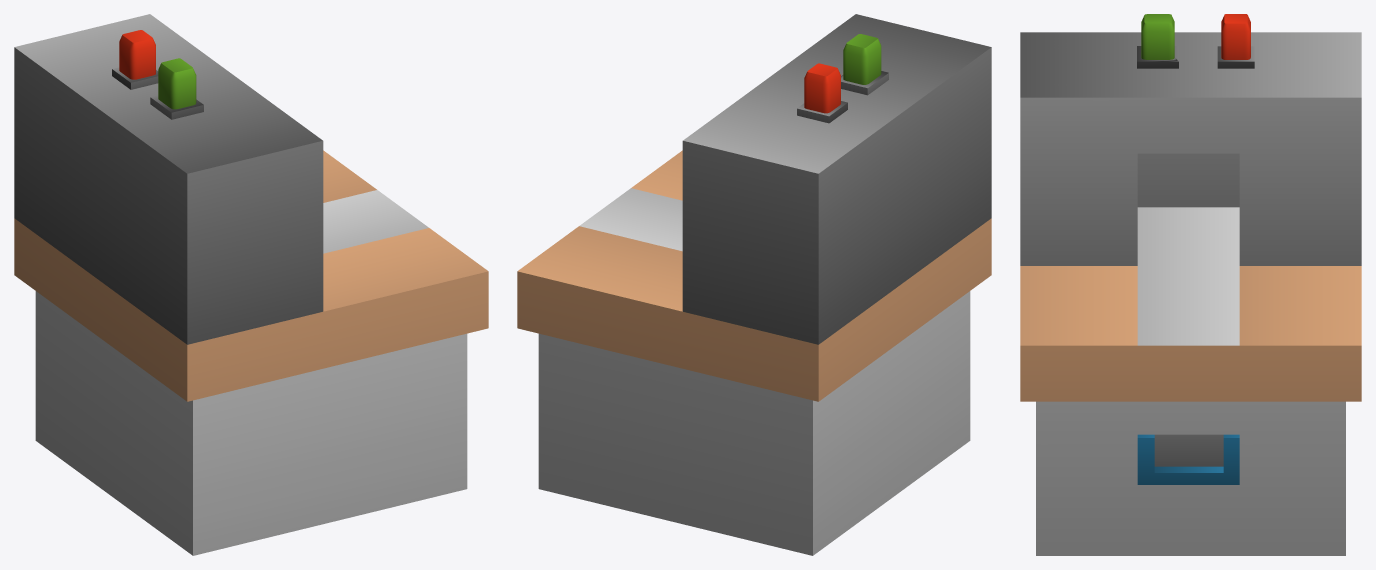
The model's file is Mesa_Entregas.fbx.
3 renders of one model, left to right at view 1: azimuth 30°, elevation 25°; view 2: azimuth 150°, elevation 25°; view 3: azimuth 270°, elevation 25°, orthographic.
Parts seen in each view (by area): view 1: Mesa_Entregas; view 2: Mesa_Entregas; view 3: Mesa_Entregas.
Boxes of the visible parts, x1=… form: Mesa_Entregas: x1=14, y1=14, x2=488, y2=555; Mesa_Entregas: x1=517, y1=14, x2=991, y2=555; Mesa_Entregas: x1=1020, y1=14, x2=1361, y2=555.
Bounding box in the file's own units: 22.12 × 30.45 × 22.01.
